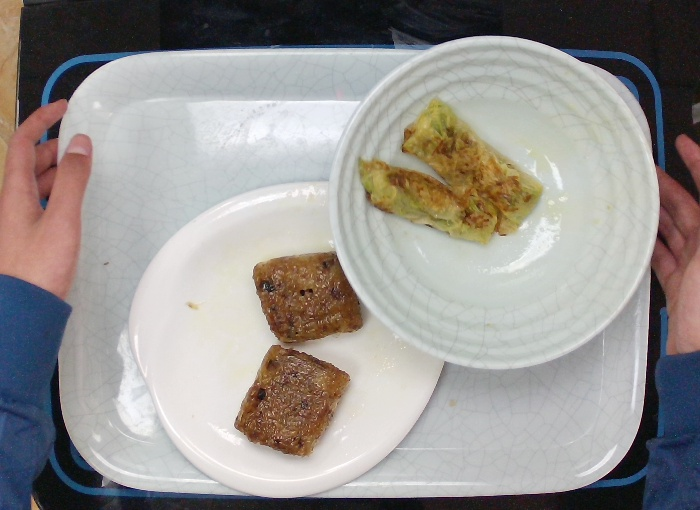JYsf-Da_Tang_Wan: (329, 31, 660, 377)
JYsf-Mian_Pan: (121, 175, 457, 501)
